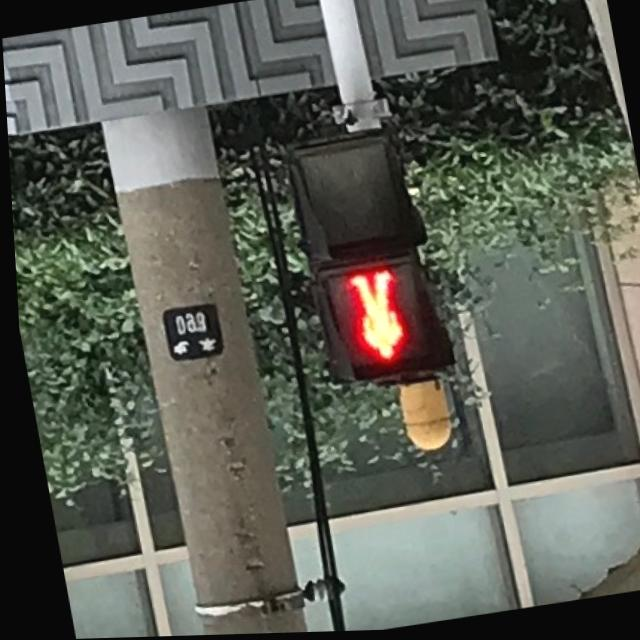red_light: (314, 260, 428, 384)
